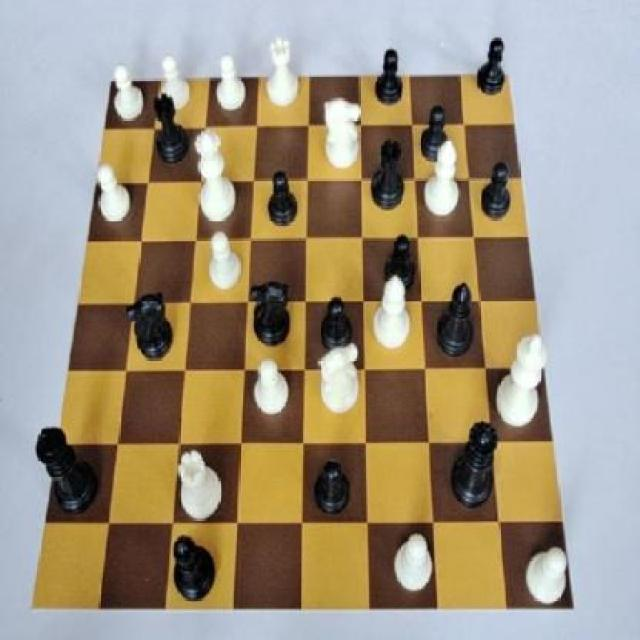bishop: (163, 530, 221, 608), (434, 271, 479, 370)
black-bishop: (32, 418, 101, 521)
black-king: (125, 294, 182, 374), (244, 271, 300, 351)
black-knight: (308, 452, 359, 521), (469, 23, 513, 102), (382, 228, 426, 302), (260, 165, 304, 237), (315, 291, 358, 363), (414, 96, 458, 166), (472, 154, 516, 223), (368, 38, 408, 111)
black-pawn: (446, 410, 505, 514)
black-queen: (148, 84, 197, 170), (368, 138, 412, 212)
black-rook: (421, 135, 467, 224), (371, 266, 415, 354)
white-bishop: (491, 328, 549, 432)
white-king: (317, 90, 365, 178), (314, 339, 363, 416)
white-knight: (515, 536, 573, 608), (88, 155, 137, 234), (389, 523, 440, 596), (246, 354, 292, 429), (208, 48, 252, 126), (205, 224, 252, 296), (104, 58, 150, 128), (150, 46, 194, 119)
white-pawn: (190, 122, 242, 228)
white-queen: (174, 448, 229, 524), (262, 32, 310, 112)
